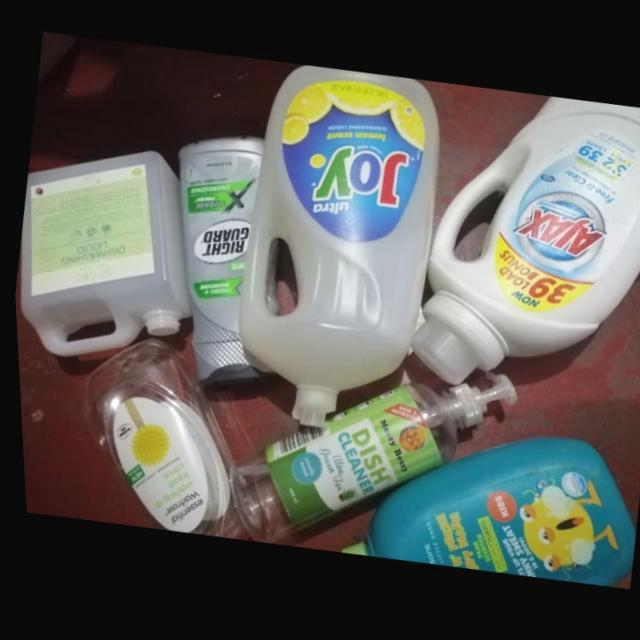plastic_bottle: (235, 67, 438, 431), (407, 100, 640, 389), (226, 375, 512, 546), (335, 440, 631, 591), (17, 152, 187, 359), (85, 340, 249, 543), (176, 139, 268, 390)
